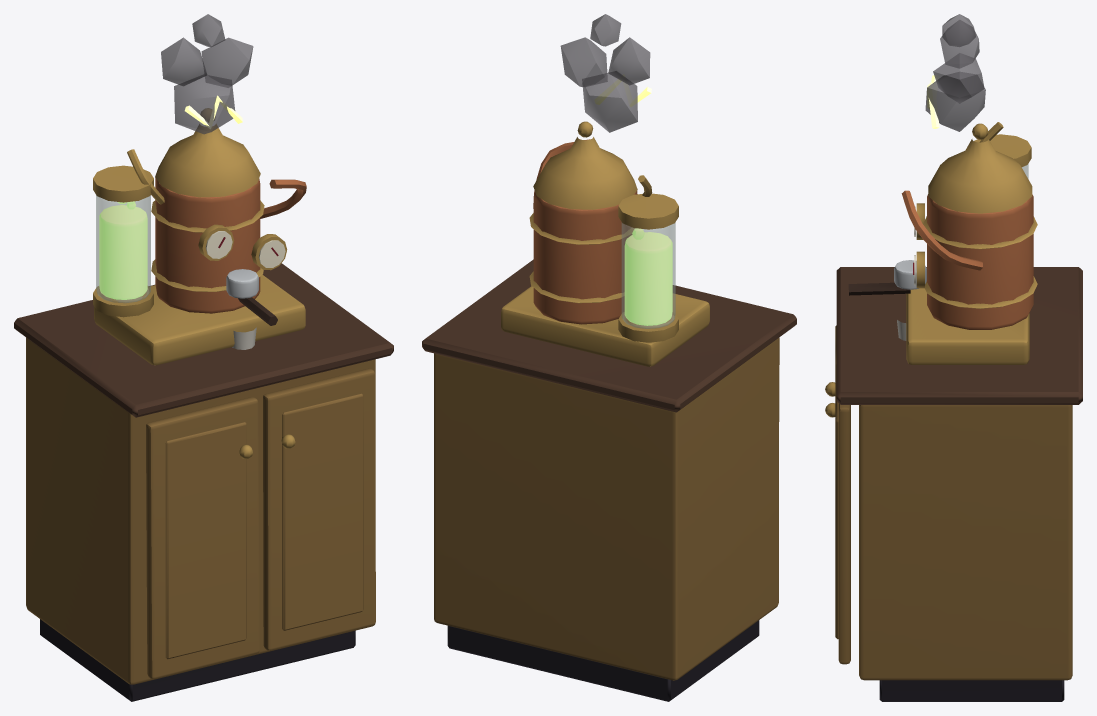
File: espresso_embalmer.glb
3 renders of one model, left to right at view 1: azimuth 30°, elevation 25°; view 2: azimuth 150°, elevation 25°; view 3: azimuth 270°, elevation 25°, orthographic.
Parts seen in each view (by area): view 1: espresso_embalmer, broken, glow; view 2: espresso_embalmer, broken, glow; view 3: espresso_embalmer, broken.
Part boxes in pixels (left/top/right/bottom): espresso_embalmer: left=14, top=108, right=393, bottom=701; broken: left=161, top=14, right=253, bottom=134; glow: left=99, top=201, right=147, bottom=299; espresso_embalmer: left=422, top=121, right=796, bottom=701; broken: left=560, top=14, right=651, bottom=132; glow: left=624, top=228, right=672, bottom=325; espresso_embalmer: left=825, top=122, right=1082, bottom=701; broken: left=925, top=14, right=985, bottom=131.
Bounding box in the file's own units: 0.74 × 1.71 × 0.628.
